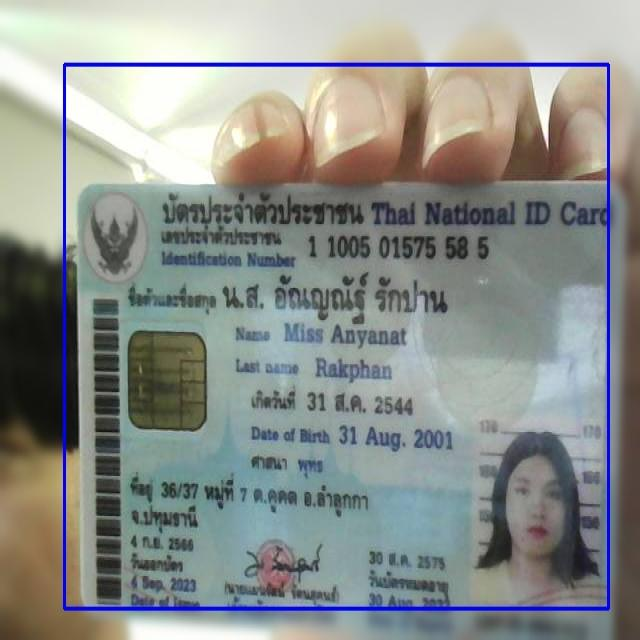Address_th: (122, 464, 381, 537)
Date_of_Birth: (337, 415, 458, 457)
Date_of_Expiry: (362, 590, 456, 622)
Date_of_Issue: (128, 572, 204, 595)
First_Name: (280, 318, 410, 353)
ID_Number: (304, 230, 493, 265)
Image: (475, 414, 604, 610)
Last_Name: (310, 353, 396, 386)
Thai_Name: (217, 268, 457, 325)
